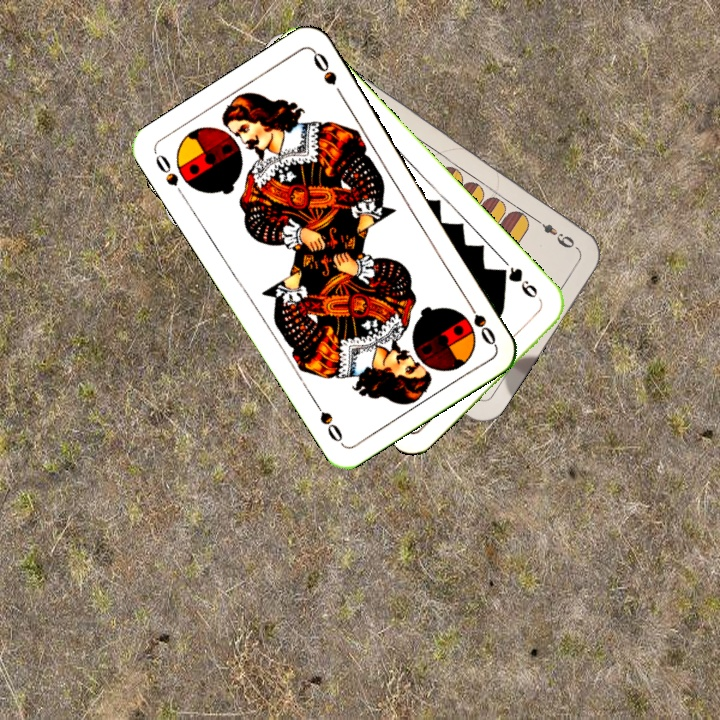E9: (529, 213, 580, 252)
G9: (495, 262, 540, 301)
SO: (461, 294, 499, 348), (151, 149, 189, 201)
